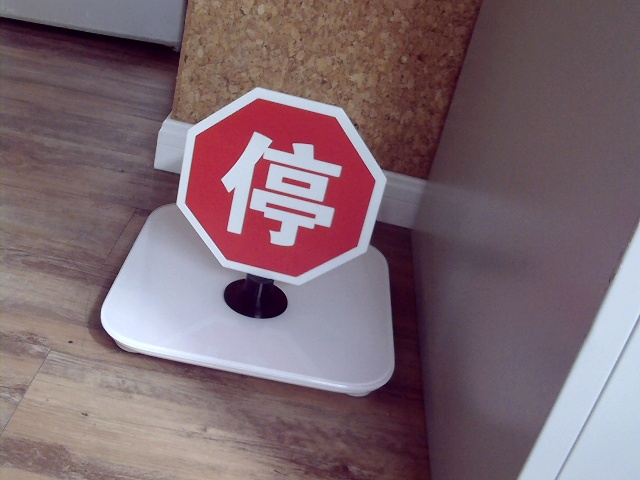stop: (221, 126, 338, 244)
